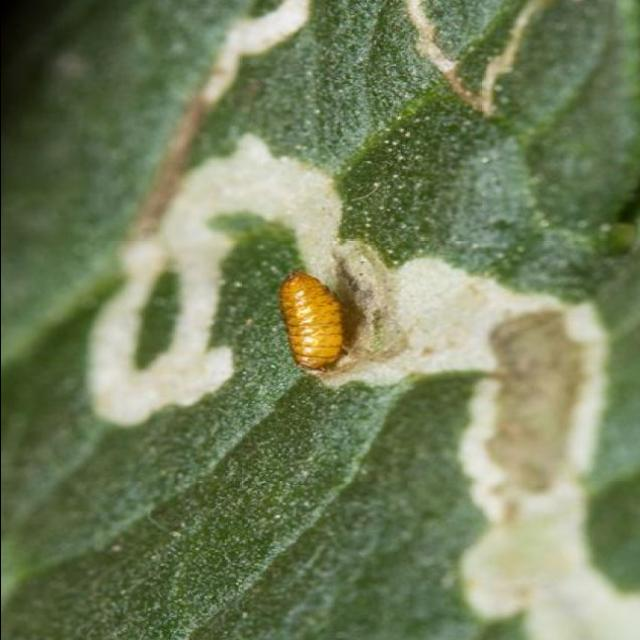Serpentine leafminer: (79, 0, 640, 640), (270, 264, 355, 379)
